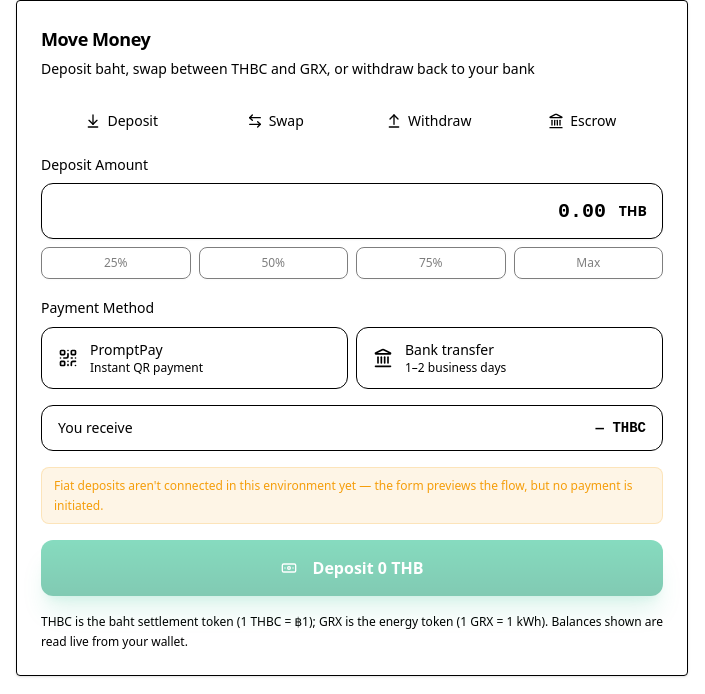
Scenario: WalletActions › prefers the live book top over the VWAP for the quote
This screenshot has width=705, height=694.
Press the mouse on the tab with test id "swap-tab" at (275, 121), box [198, 107, 352, 135]
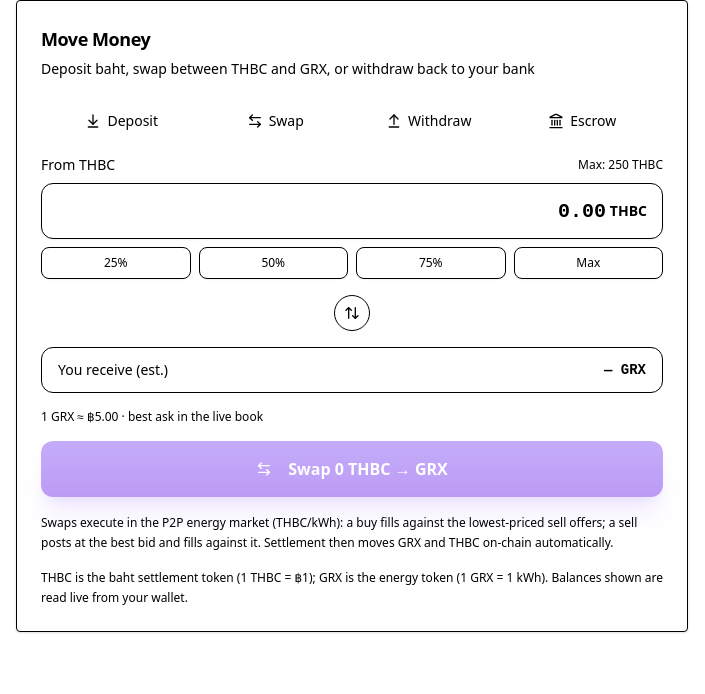
Type "100" into the number field with test id "escrow-amount-input" at (352, 211), box [41, 183, 663, 239]
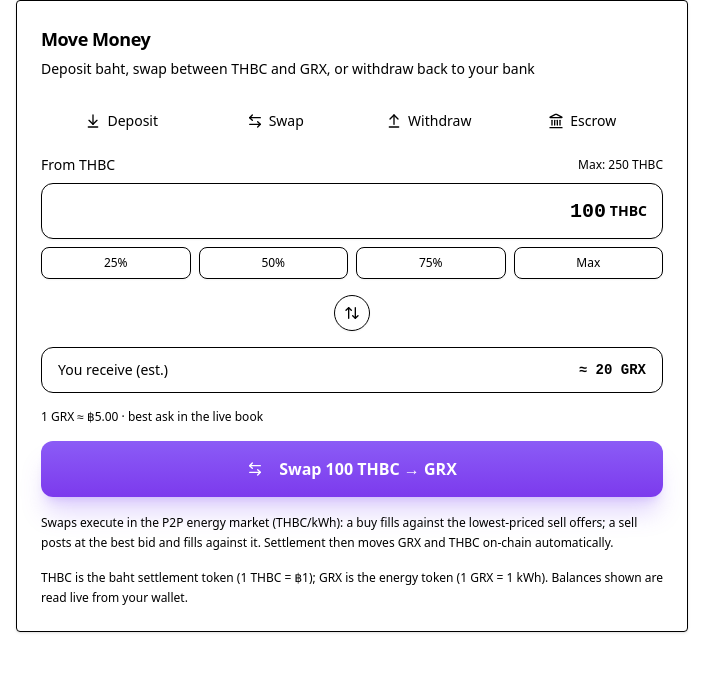
Now the text "1 GRX ≈ ฿5.00 · best ask in the live book" is shown, box [41, 408, 263, 425]
Now the text "≈ 20 GRX" is shown, box [579, 360, 646, 380]
